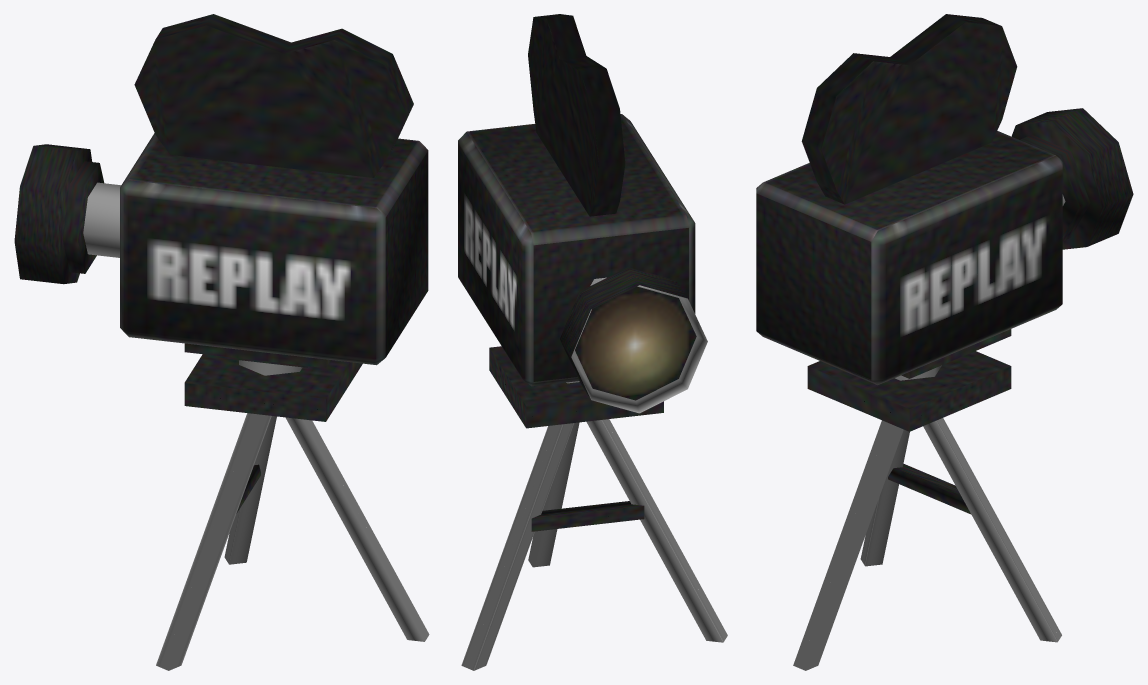
Rendered from V_REPLAY.ICO.obj.
The picture shows the model from 3 angles, left to right: view 1: azimuth 30°, elevation 25°; view 2: azimuth 150°, elevation 25°; view 3: azimuth 270°, elevation 25°; orthographic projection. The views are drawn at different scales.
Size of the model in its own units: 2.42 by 4.15 by 2.43.
Materials: 1 (1 with a texture image).
